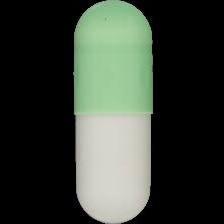61919-775: (0, 0, 224, 224)
